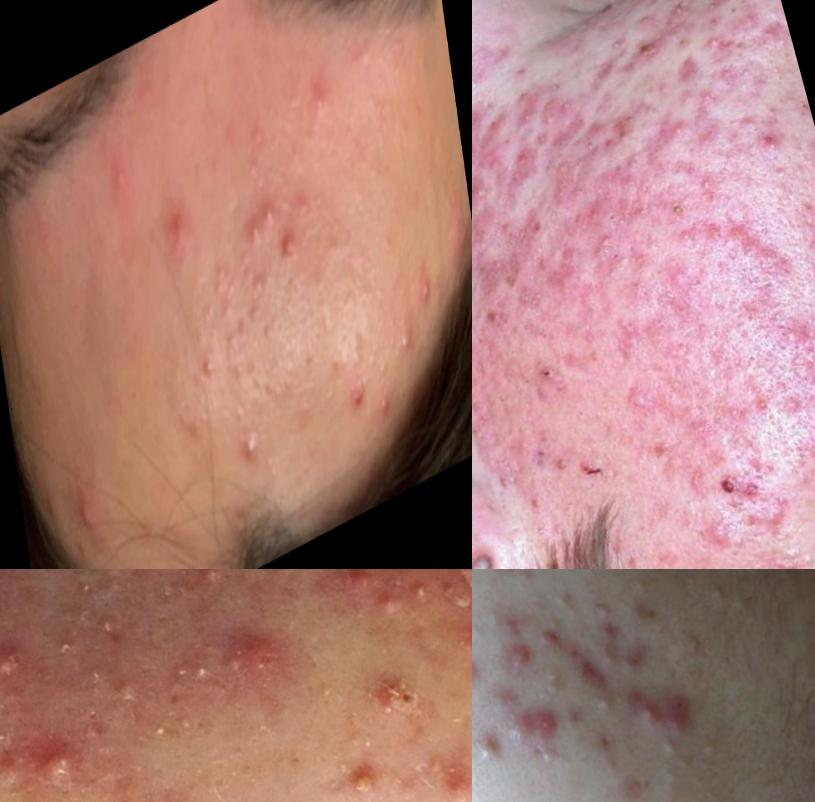papular: (202, 605, 332, 749), (66, 439, 116, 560), (507, 333, 584, 410), (701, 448, 779, 512), (492, 693, 571, 756), (413, 732, 473, 802), (610, 366, 666, 431), (625, 683, 678, 742), (742, 528, 815, 570), (302, 41, 336, 130), (662, 38, 714, 93), (164, 183, 197, 268), (495, 636, 551, 686), (659, 695, 701, 750), (337, 364, 372, 420), (1, 723, 28, 795), (530, 615, 574, 655), (107, 133, 130, 206), (279, 224, 307, 283), (335, 570, 384, 602), (497, 610, 536, 650), (473, 169, 501, 218), (620, 645, 655, 680), (473, 726, 499, 772), (590, 614, 624, 648), (473, 649, 491, 708)
purulent: (18, 711, 104, 802), (324, 736, 406, 802), (1, 641, 32, 690), (137, 783, 213, 802)
sebo-crystan-conglo: (384, 570, 473, 674), (350, 648, 438, 743), (204, 610, 307, 681)
whitehead: (237, 388, 274, 480), (742, 104, 796, 166), (134, 698, 189, 753), (576, 225, 635, 274), (180, 570, 244, 613), (693, 201, 746, 252), (743, 365, 788, 423), (573, 668, 623, 719), (385, 304, 421, 371), (532, 659, 574, 702), (180, 647, 218, 693), (406, 252, 436, 310), (197, 339, 225, 398), (673, 623, 711, 665), (244, 205, 271, 263), (49, 626, 87, 666), (583, 584, 615, 627), (706, 572, 738, 615), (199, 289, 228, 335), (696, 732, 729, 766), (653, 731, 686, 764), (211, 253, 235, 298), (552, 586, 583, 618), (260, 184, 280, 230), (535, 738, 562, 771), (479, 601, 508, 631), (619, 570, 647, 601), (506, 570, 540, 590), (473, 620, 490, 645), (473, 796, 494, 802)
